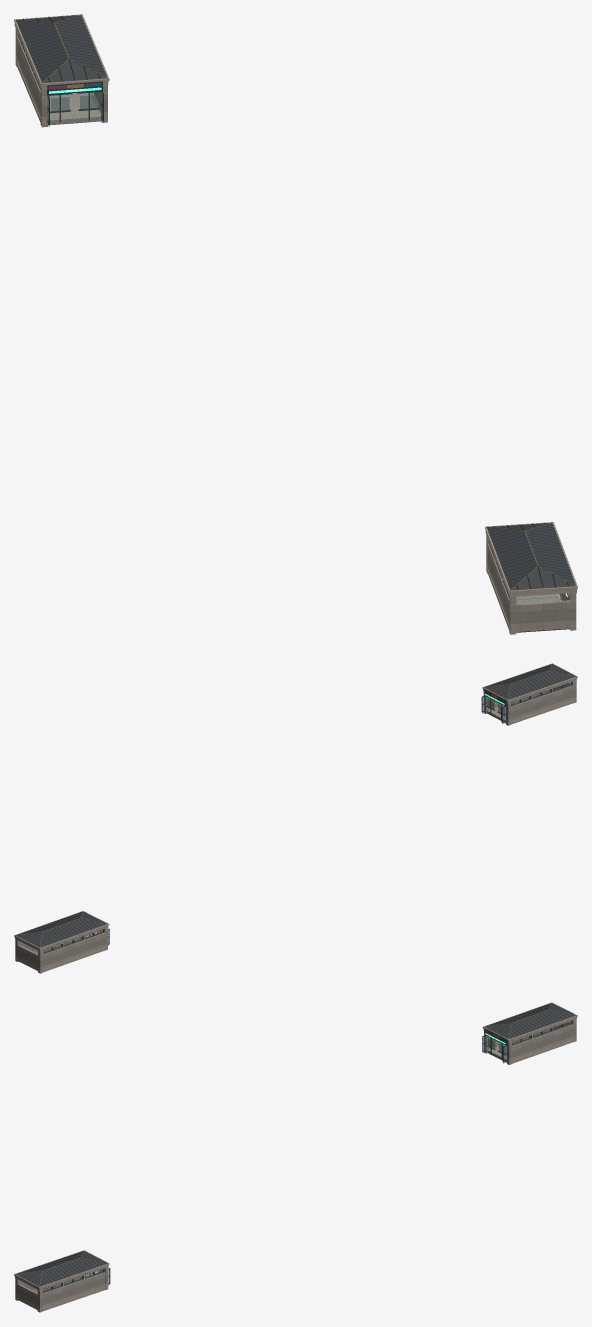
File: place-boyls.glb
3 renders of one model, top to bottom at view 1: azimuth 30°, elevation 25°; view 2: azimuth 150°, elevation 25°; view 3: azimuth 330°, elevation 25°, orthographic. The views are drawn at different scales.
Visible parts, largest first — view 1: Inbound granite kiosk.Gunmetal, Outbound granite kiosk.Gunmetal, Outbound granite kiosk.BostonGranite, Inbound granite kiosk.Iron, Outbound granite kiosk.Iron, Inbound granite kiosk.BostonGranite, Inbound granite kiosk.DeckConcrete, Outbound granite kiosk.Limestone, Inbound granite kiosk.Limestone; view 2: Inbound granite kiosk.BostonGranite, Outbound granite kiosk.Gunmetal, Inbound granite kiosk.Gunmetal, Outbound granite kiosk.BostonGranite, Inbound granite kiosk.Limestone, Outbound granite kiosk.Limestone, Outbound granite kiosk.Iron, Inbound granite kiosk.Iron; view 3: Outbound granite kiosk.BostonGranite, Inbound granite kiosk.Gunmetal, Outbound granite kiosk.Gunmetal, Inbound granite kiosk.BostonGranite, Outbound granite kiosk.Limestone, Inbound granite kiosk.Limestone, Inbound granite kiosk.Iron, Outbound granite kiosk.Iron.
Part boxes in pixels (x1,y1,x2,y2): Inbound granite kiosk.Gunmetal: [16, 15, 106, 122]; Outbound granite kiosk.Gunmetal: [487, 523, 575, 597]; Outbound granite kiosk.BostonGranite: [486, 535, 577, 634]; Inbound granite kiosk.Iron: [17, 15, 106, 125]; Outbound granite kiosk.Iron: [487, 522, 574, 589]; Inbound granite kiosk.BostonGranite: [15, 27, 108, 127]; Inbound granite kiosk.DeckConcrete: [48, 92, 101, 124]; Outbound granite kiosk.Limestone: [485, 522, 577, 631]; Inbound granite kiosk.Limestone: [14, 14, 109, 124]; Inbound granite kiosk.BostonGranite: [14, 925, 108, 973]; Outbound granite kiosk.Gunmetal: [484, 664, 575, 720]; Inbound granite kiosk.Gunmetal: [16, 911, 106, 953]; Outbound granite kiosk.BostonGranite: [483, 678, 577, 725]; Inbound granite kiosk.Limestone: [14, 911, 109, 971]; Outbound granite kiosk.Limestone: [482, 663, 577, 723]; Outbound granite kiosk.Iron: [481, 664, 573, 722]; Inbound granite kiosk.Iron: [18, 912, 109, 946]; Outbound granite kiosk.BostonGranite: [14, 1265, 108, 1312]; Inbound granite kiosk.Gunmetal: [485, 1003, 575, 1059]; Outbound granite kiosk.Gunmetal: [16, 1251, 107, 1292]; Inbound granite kiosk.BostonGranite: [483, 1017, 577, 1064]; Outbound granite kiosk.Limestone: [14, 1250, 109, 1310]; Inbound granite kiosk.Limestone: [482, 1002, 577, 1063]; Inbound granite kiosk.Iron: [482, 1003, 573, 1062]; Outbound granite kiosk.Iron: [18, 1251, 110, 1285].
Bounding box in the file's own units: 22.59 × 4.19 × 104.
Materials: 15 (3 with a texture image).
